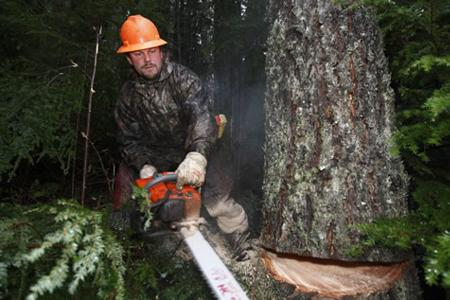person: (111, 14, 219, 187)
